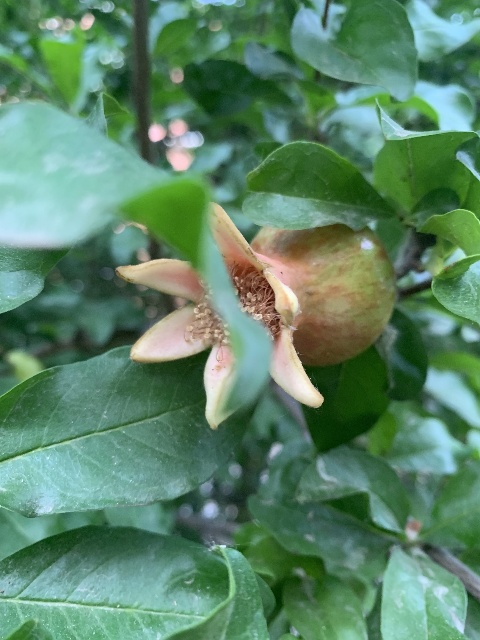early-fruit: (117, 201, 396, 434)
